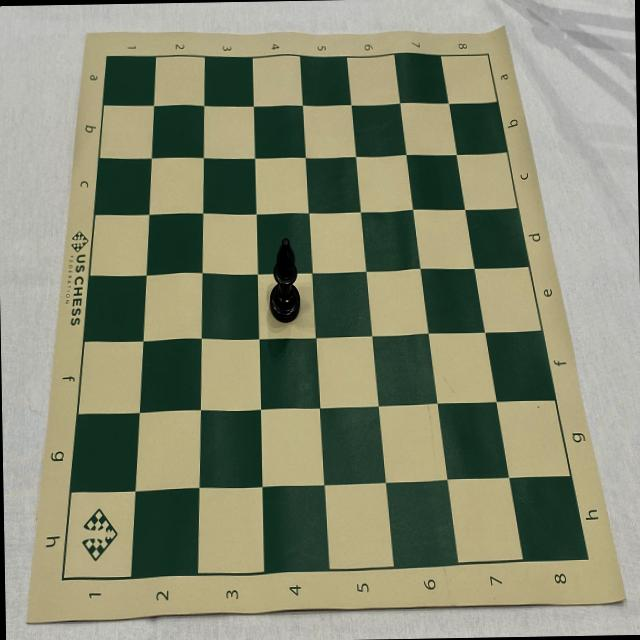black-bishop: (267, 235, 302, 324)
